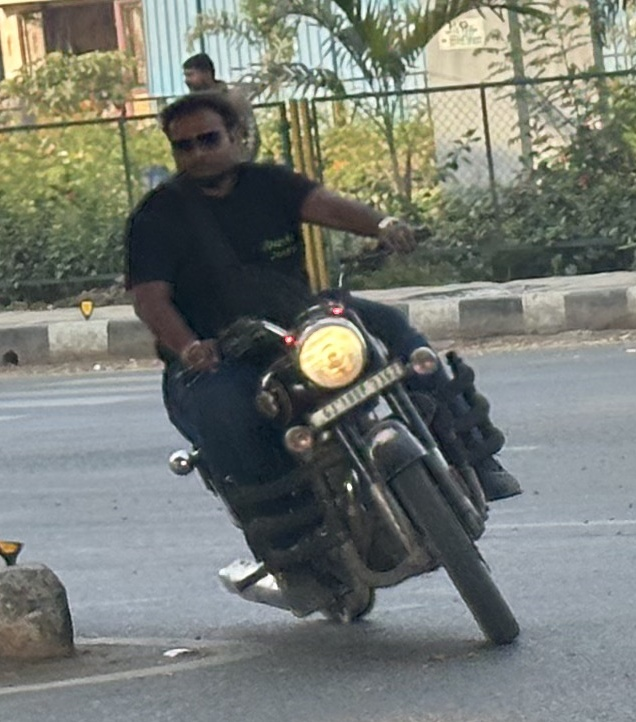BikeWithRider: (111, 81, 537, 656)
Helmet: (147, 83, 270, 191)
